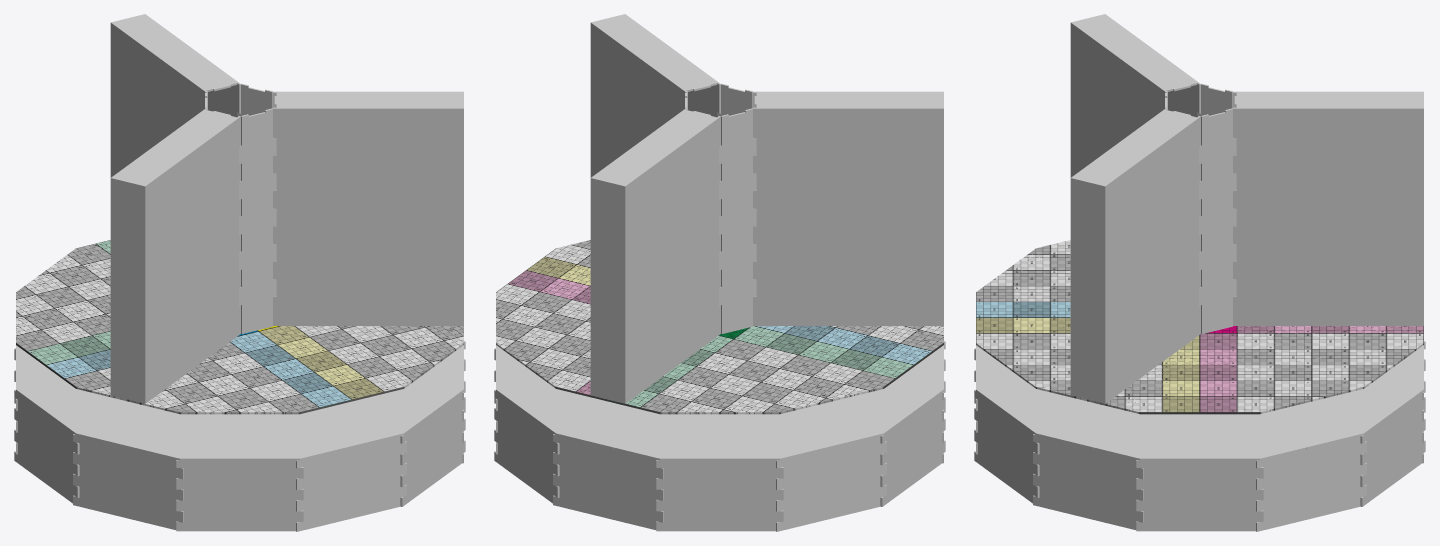
File: MOD_BaseMaquetaCircular_v02 (2).fbx
The picture shows the model from 3 angles, left to right: view 1: azimuth 30°, elevation 25°; view 2: azimuth 150°, elevation 25°; view 3: azimuth 270°, elevation 25°; orthographic projection.
Parts seen in each view (by area): view 1: MOD_BaseCircular_028, MOD_BaseCircular_002, MOD_BaseCircular_022, MOD_BaseCircular_001, MOD_BaseCircular_017, MOD_BaseCircular_003, MOD_BaseCircular_000, MOD_BaseCircular_016, MOD_BaseCircular_019, MOD_BaseCircular_025, MOD_BaseCircular_007, MOD_BaseCircular_015 (+6 smaller); view 2: MOD_BaseCircular_024, MOD_BaseCircular_002, MOD_BaseCircular_003, MOD_BaseCircular_001, MOD_BaseCircular_013, MOD_BaseCircular_026, MOD_BaseCircular_014, MOD_BaseCircular_012, MOD_BaseCircular_021, MOD_BaseCircular_006, MOD_BaseCircular_015, MOD_BaseCircular_011 (+6 smaller); view 3: MOD_BaseCircular_005, MOD_BaseCircular_002, MOD_BaseCircular_026, MOD_BaseCircular_001, MOD_BaseCircular_009, MOD_BaseCircular_022, MOD_BaseCircular_010, MOD_BaseCircular_008, MOD_BaseCircular_020, MOD_BaseCircular_029, MOD_BaseCircular_011, MOD_BaseCircular_007 (+6 smaller).
Part boxes in pixels (left/top/right/bottom): MOD_BaseCircular_028: left=272, top=107, right=463, bottom=325; MOD_BaseCircular_002: left=16, top=240, right=463, bottom=414; MOD_BaseCircular_022: left=143, top=116, right=240, bottom=403; MOD_BaseCircular_001: left=16, top=345, right=463, bottom=460; MOD_BaseCircular_017: left=176, top=458, right=303, bottom=531; MOD_BaseCircular_003: left=110, top=22, right=207, bottom=177; MOD_BaseCircular_000: left=296, top=436, right=406, bottom=531; MOD_BaseCircular_016: left=73, top=434, right=183, bottom=529; MOD_BaseCircular_019: left=239, top=108, right=276, bottom=333; MOD_BaseCircular_025: left=110, top=177, right=146, bottom=403; MOD_BaseCircular_007: left=400, top=393, right=465, bottom=506; MOD_BaseCircular_015: left=14, top=389, right=79, bottom=503; MOD_BaseCircular_024: left=752, top=107, right=943, bottom=325; MOD_BaseCircular_002: left=496, top=240, right=943, bottom=414; MOD_BaseCircular_003: left=623, top=116, right=720, bottom=403; MOD_BaseCircular_001: left=496, top=345, right=943, bottom=460; MOD_BaseCircular_013: left=656, top=458, right=783, bottom=531; MOD_BaseCircular_026: left=590, top=22, right=687, bottom=177; MOD_BaseCircular_014: left=776, top=436, right=886, bottom=531; MOD_BaseCircular_012: left=553, top=434, right=663, bottom=529; MOD_BaseCircular_021: left=719, top=108, right=756, bottom=333; MOD_BaseCircular_006: left=590, top=177, right=626, bottom=403; MOD_BaseCircular_015: left=880, top=393, right=945, bottom=506; MOD_BaseCircular_011: left=494, top=389, right=559, bottom=503; MOD_BaseCircular_005: left=1232, top=107, right=1423, bottom=325; MOD_BaseCircular_002: left=976, top=240, right=1423, bottom=414; MOD_BaseCircular_026: left=1103, top=116, right=1200, bottom=403; MOD_BaseCircular_001: left=976, top=345, right=1423, bottom=460; MOD_BaseCircular_009: left=1136, top=458, right=1263, bottom=531; MOD_BaseCircular_022: left=1070, top=22, right=1167, bottom=177; MOD_BaseCircular_010: left=1256, top=436, right=1366, bottom=531; MOD_BaseCircular_008: left=1033, top=434, right=1143, bottom=529; MOD_BaseCircular_020: left=1199, top=108, right=1236, bottom=333; MOD_BaseCircular_029: left=1070, top=177, right=1106, bottom=403; MOD_BaseCircular_011: left=1360, top=393, right=1425, bottom=506; MOD_BaseCircular_007: left=974, top=389, right=1039, bottom=503.
Size of the model in its own units: 56.47 by 46.4 by 56.47.
Materials: 1 (1 with a texture image).
